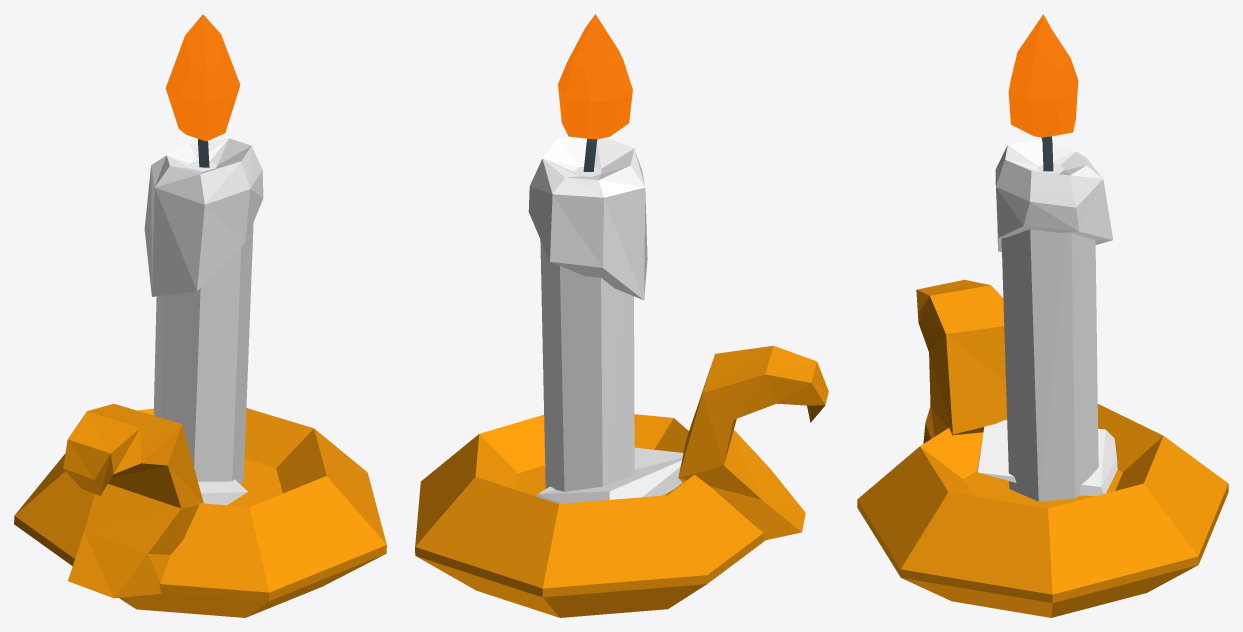
The model's file is candle animation.glb.
The picture shows the model from 3 angles, left to right: view 1: azimuth 30°, elevation 25°; view 2: azimuth 150°, elevation 25°; view 3: azimuth 270°, elevation 25°; orthographic projection.
Parts seen in each view (by area): view 1: Candle, candleanimation; view 2: Candle, candleanimation; view 3: Candle, candleanimation.
Boxes of the visible parts, bbox=[...] form: Candle: bbox=[14, 138, 386, 617]; candleanimation: bbox=[165, 14, 240, 141]; Candle: bbox=[415, 136, 828, 617]; candleanimation: bbox=[558, 14, 632, 139]; Candle: bbox=[857, 136, 1228, 617]; candleanimation: bbox=[1008, 14, 1078, 137].
Bounding box in the file's own units: 0.0658 × 0.099 × 0.0604.
